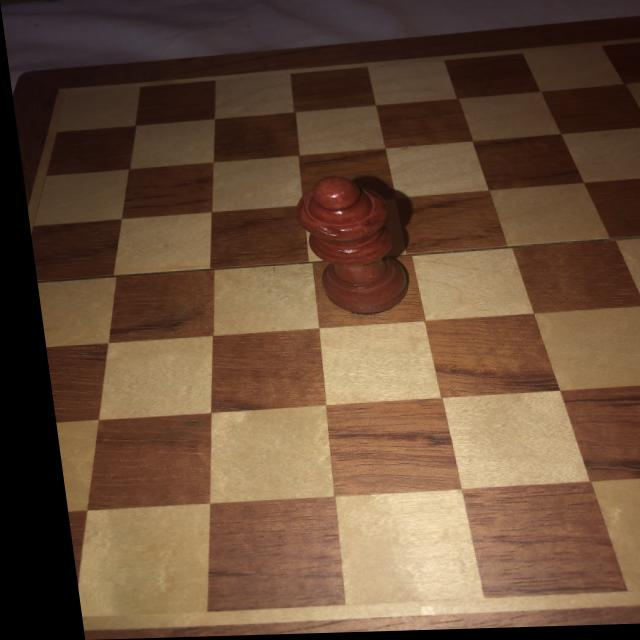black_queen: (285, 175, 405, 320)
